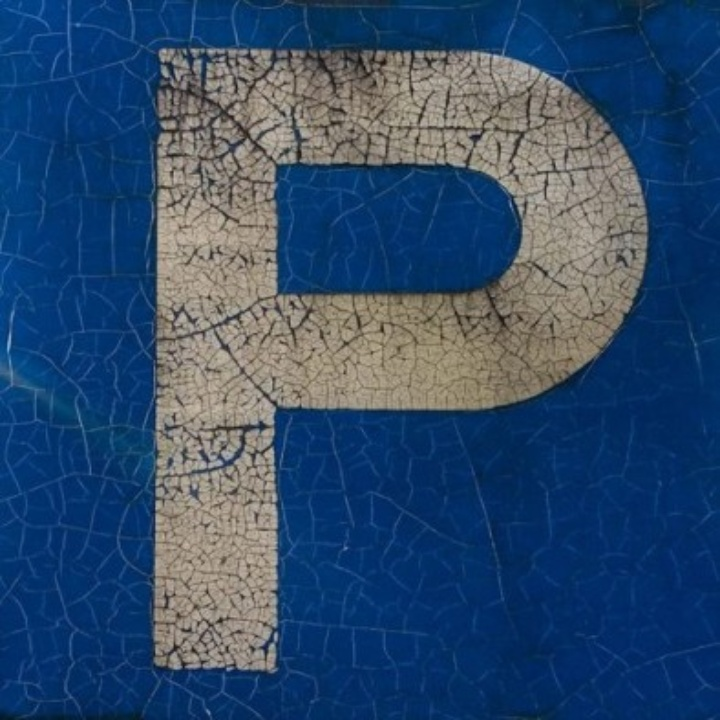parking: (133, 22, 652, 682)
